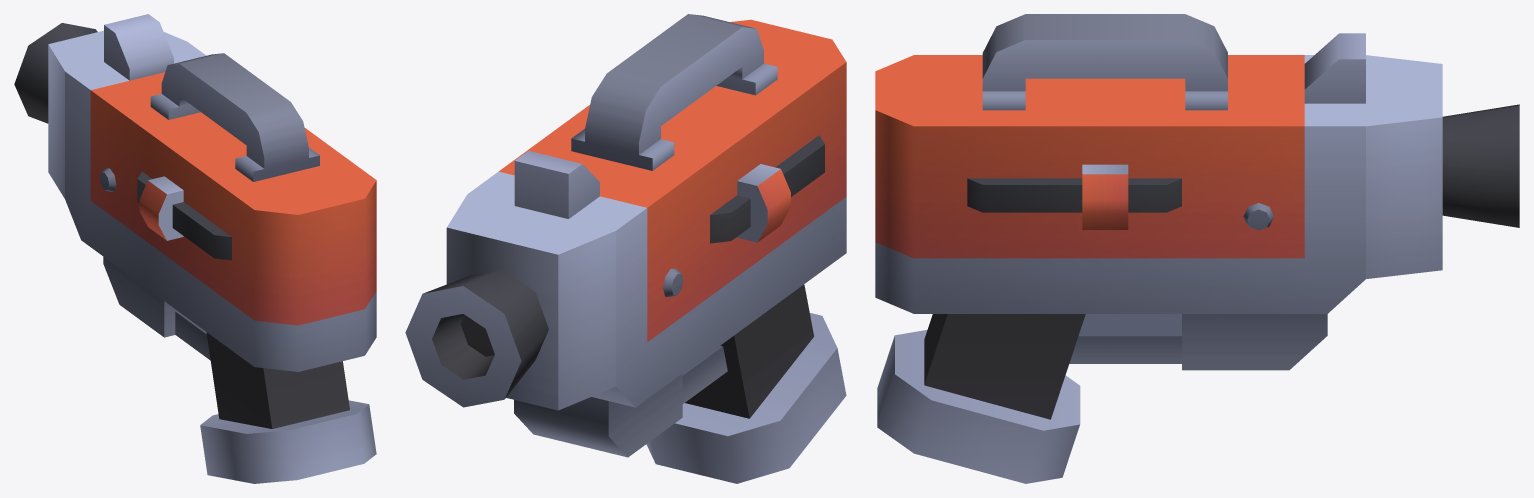
The model's file is blaster-b.glb.
3 views of the same model, side by side, from view 1: azimuth 30°, elevation 25°; view 2: azimuth 150°, elevation 25°; view 3: azimuth 270°, elevation 25° (orthographic). The views are drawn at different scales.
Visible parts, largest first — view 1: blaster-b; view 2: blaster-b; view 3: blaster-b.
Boxes of the visible parts, <box> form: blaster-b: <box>14,14,376,483</box>; blaster-b: <box>405,14,846,483</box>; blaster-b: <box>875,14,1519,483</box>.
Bounding box in the file's own units: 0.155 × 0.3105 × 0.4201.
1 material, 1 textured.
